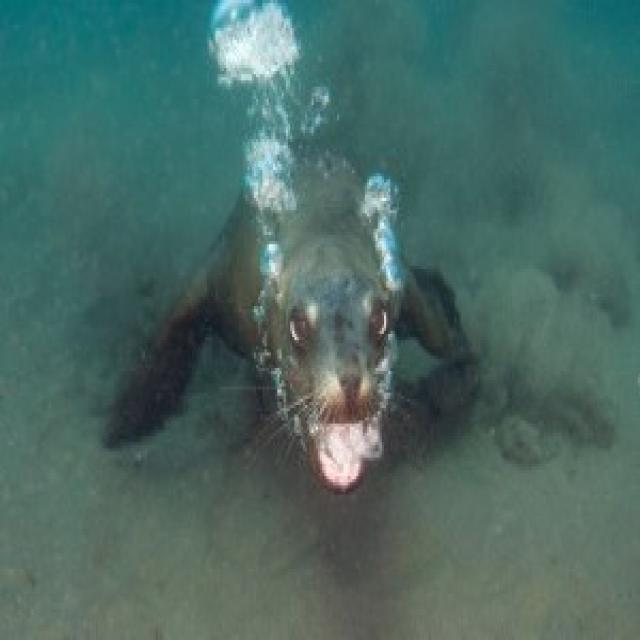Seal: (101, 90, 490, 512)
